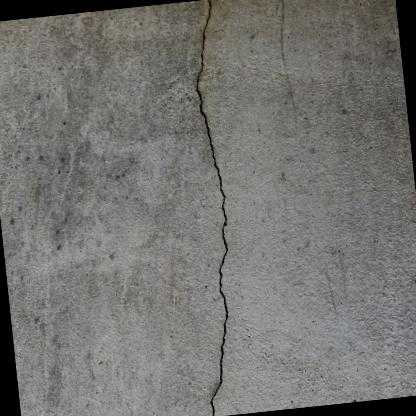crack: (195, 0, 229, 416)
